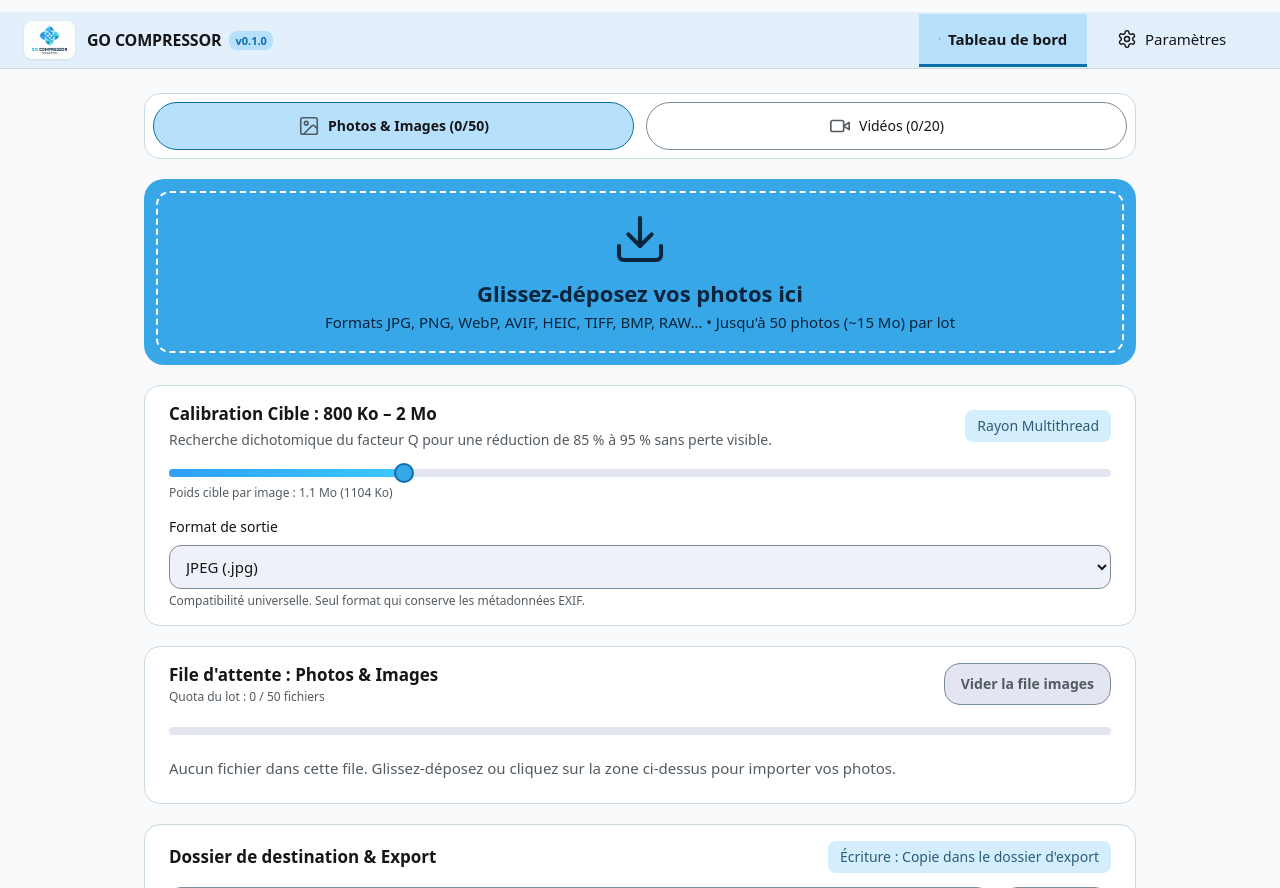
Scenario: App Component › permet de basculer vers les Paramètres et revenir au Tableau de bord
Click the tab "Paramètres" at (1172, 40), box x1=1087 y1=14 x2=1256 y2=66
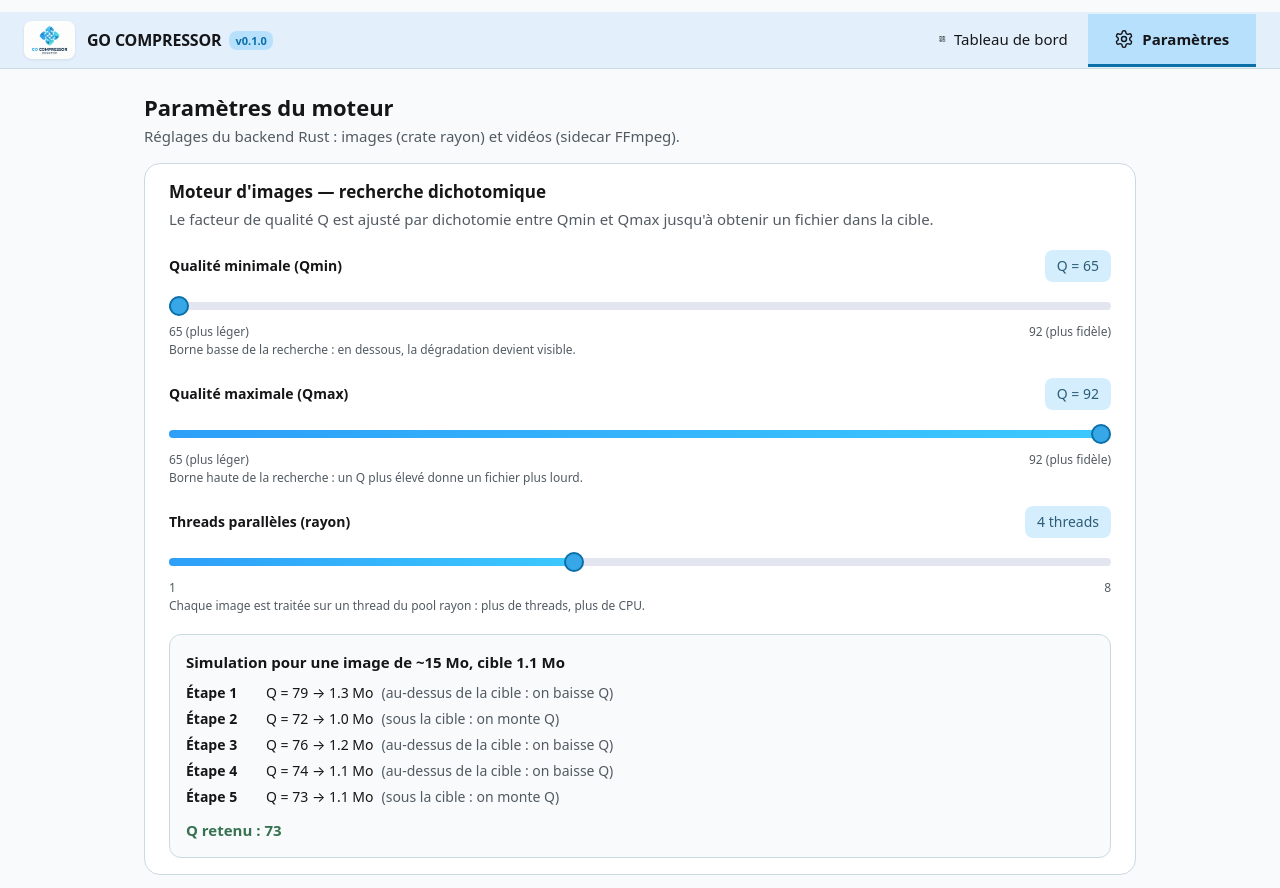
Expected: the heading "Paramètres du moteur" is shown, x1=144 y1=92 x2=394 y2=122
Click the tab "Tableau de bord" at (1004, 40), box x1=919 y1=14 x2=1088 y2=66
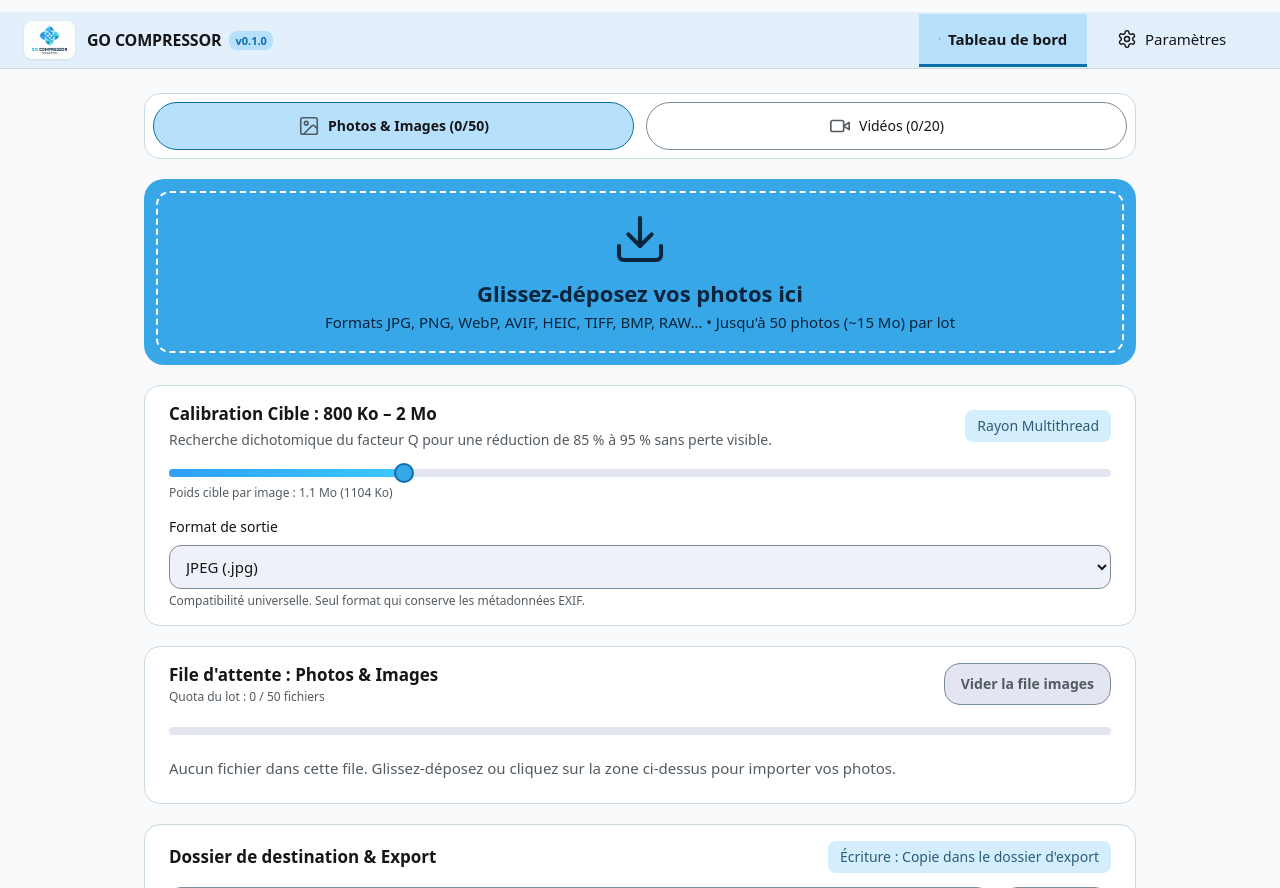
Expected: the text "Glissez-déposez vos photos ici" is shown, x1=477 y1=279 x2=803 y2=307
